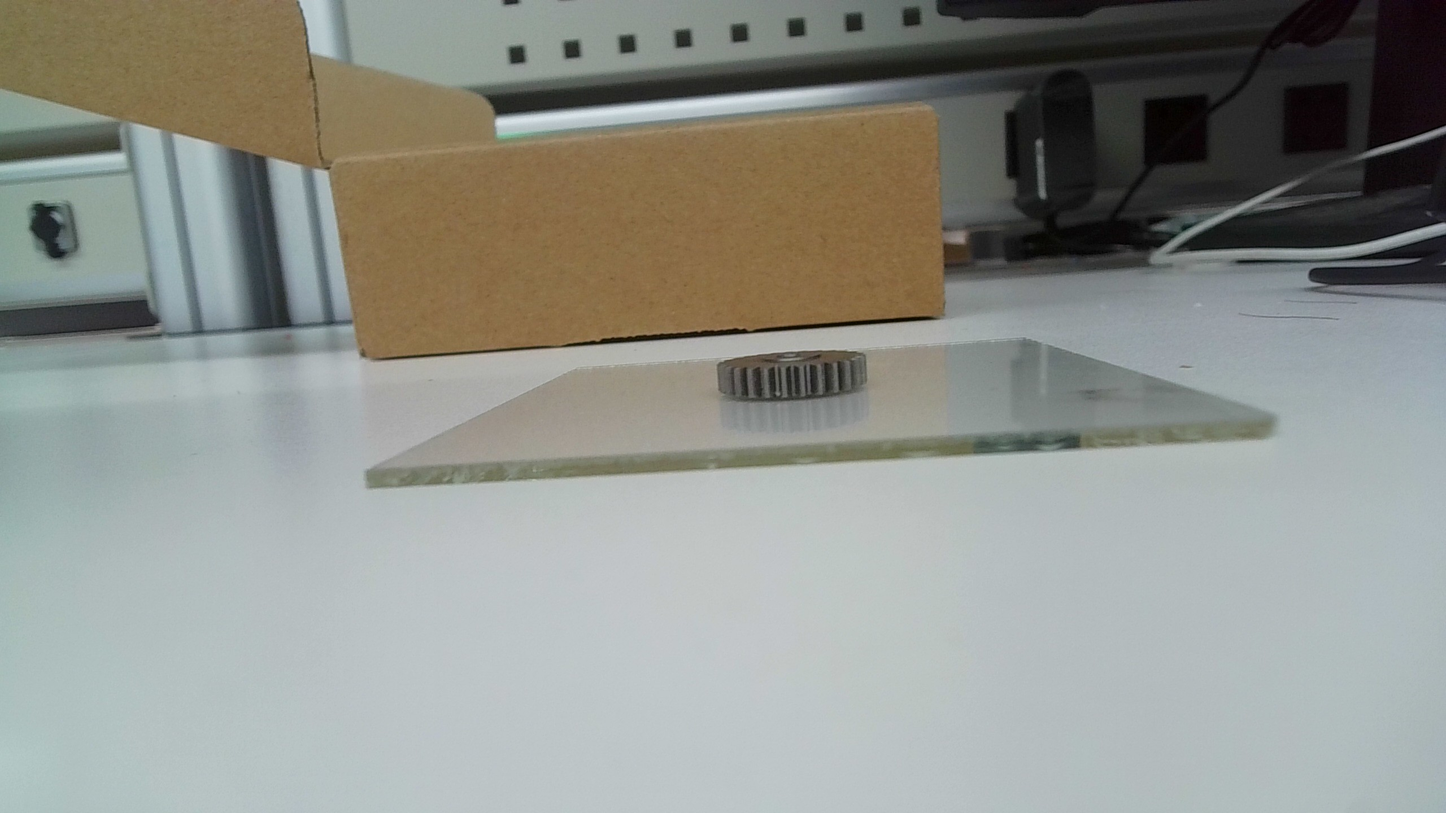gear: (713, 347, 869, 402)
